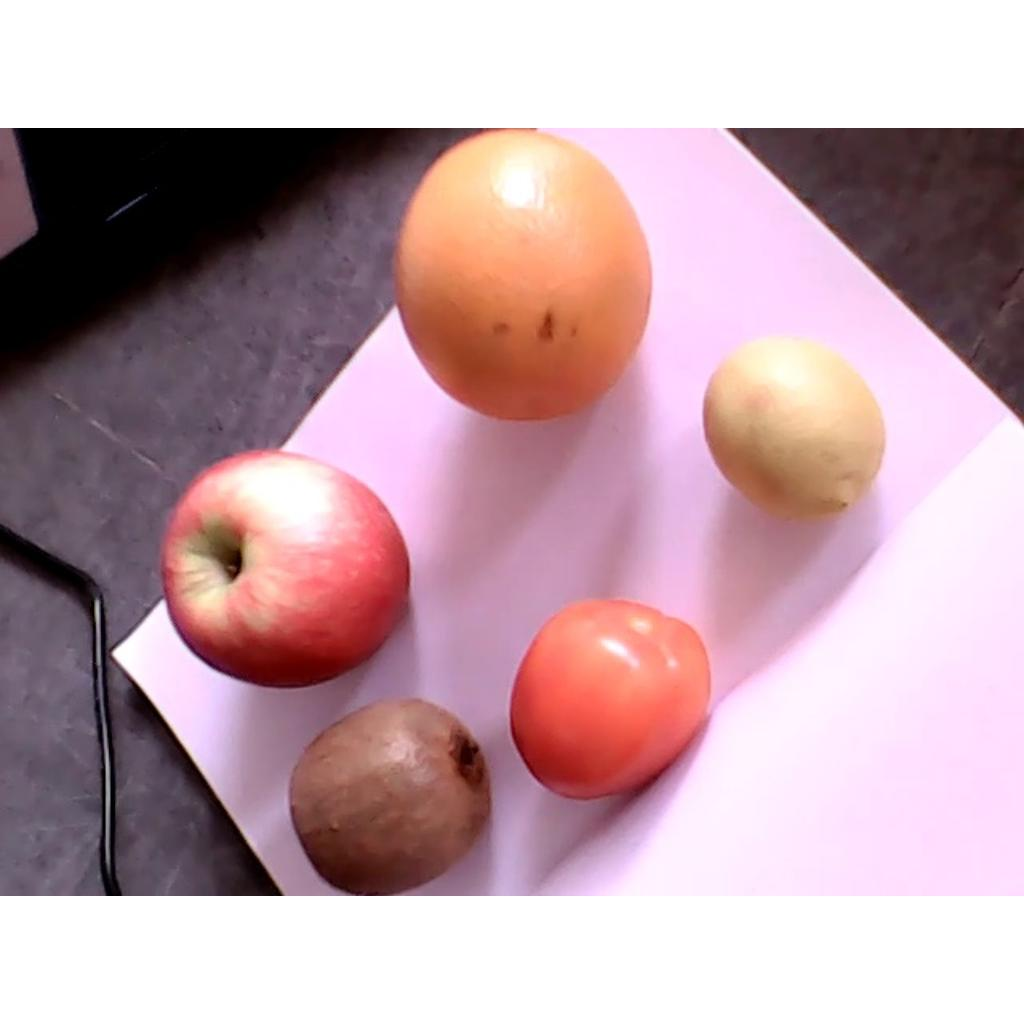apple: (160, 449, 409, 689)
kiwi: (286, 698, 491, 894)
lemon: (702, 341, 884, 519)
orange: (395, 129, 652, 420)
tomato: (508, 597, 710, 800)
